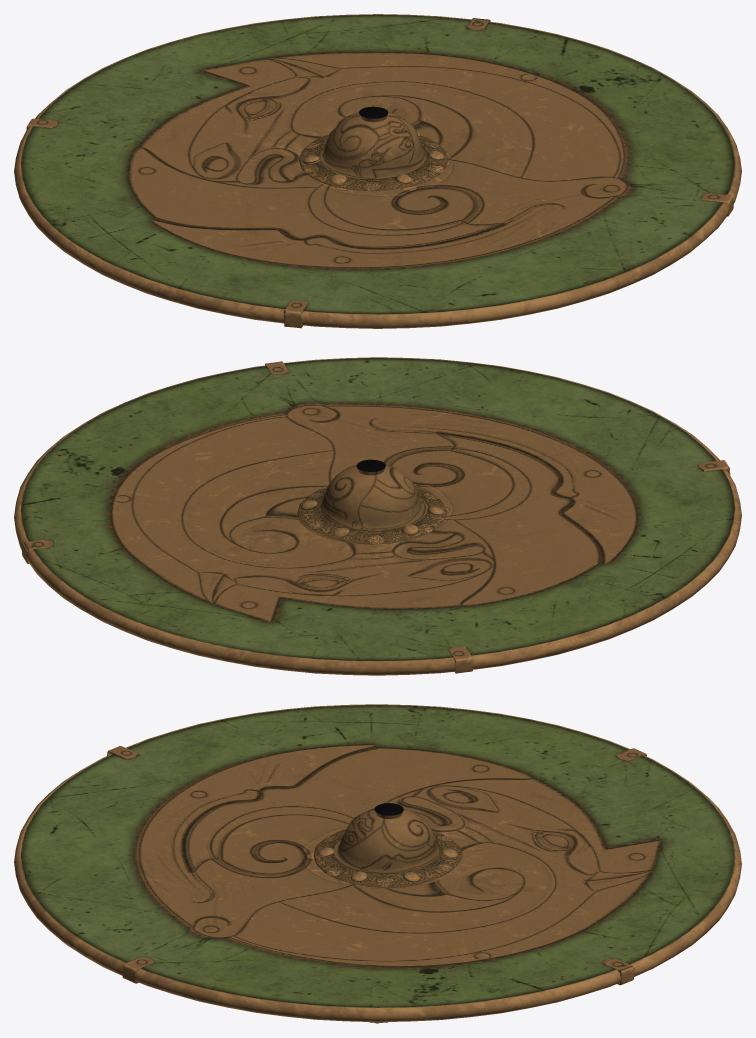
File: cts_rohan_shield2.fbx
The picture shows the model from 3 angles, top to bottom: view 1: azimuth 30°, elevation 25°; view 2: azimuth 150°, elevation 25°; view 3: azimuth 270°, elevation 25°; orthographic projection.
Parts seen in each view (by area): view 1: cts_rohan_shield2; view 2: cts_rohan_shield2; view 3: cts_rohan_shield2.
Part boxes in pixels (bbox=[...]): cts_rohan_shield2: bbox=[14, 14, 741, 328]; cts_rohan_shield2: bbox=[14, 357, 741, 675]; cts_rohan_shield2: bbox=[14, 704, 741, 1023].
Bounding box in the file's own units: 0.9736 × 0.9736 × 0.1045.
1 material, 1 textured.
